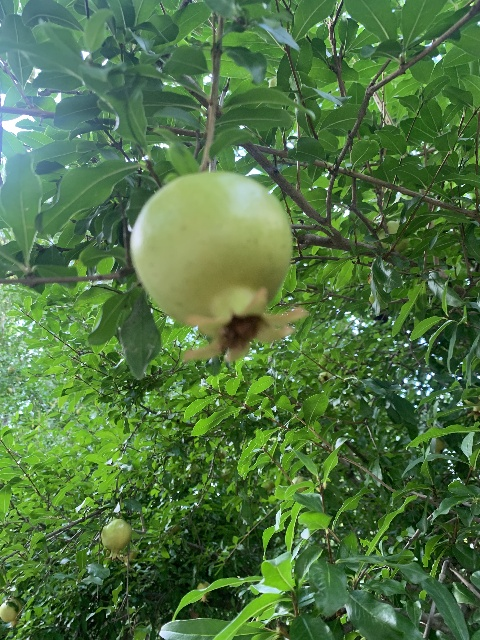mid-growth: (127, 170, 309, 363), (100, 517, 132, 563), (0, 599, 20, 627), (197, 581, 210, 602), (319, 371, 333, 383)
